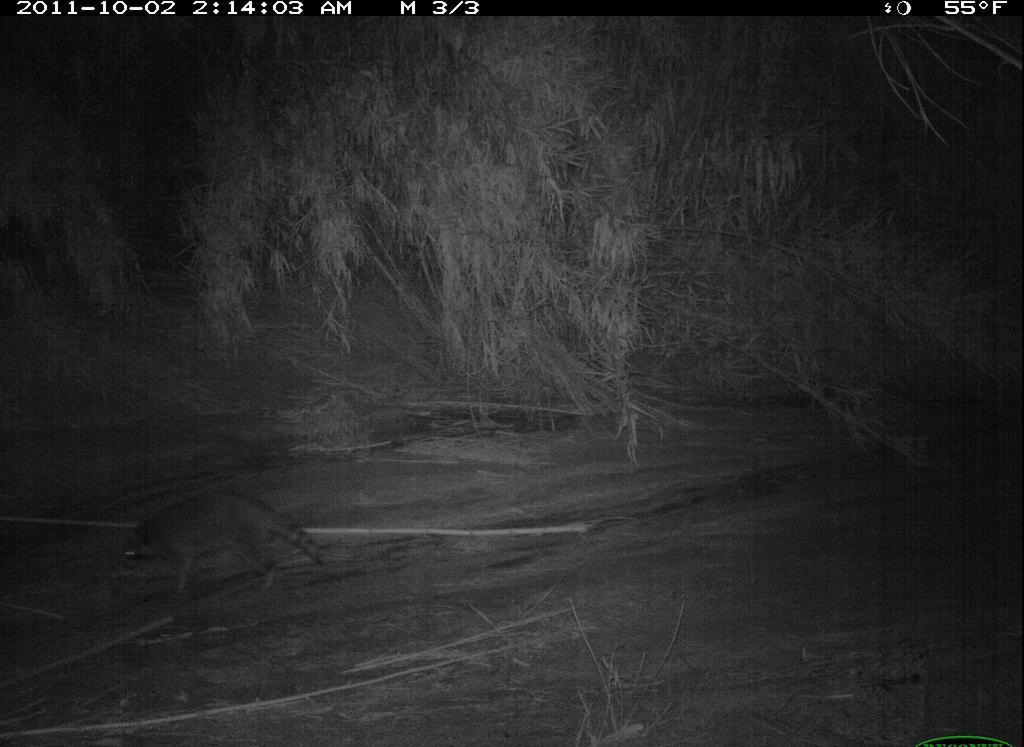raccoon: (104, 474, 340, 607)
